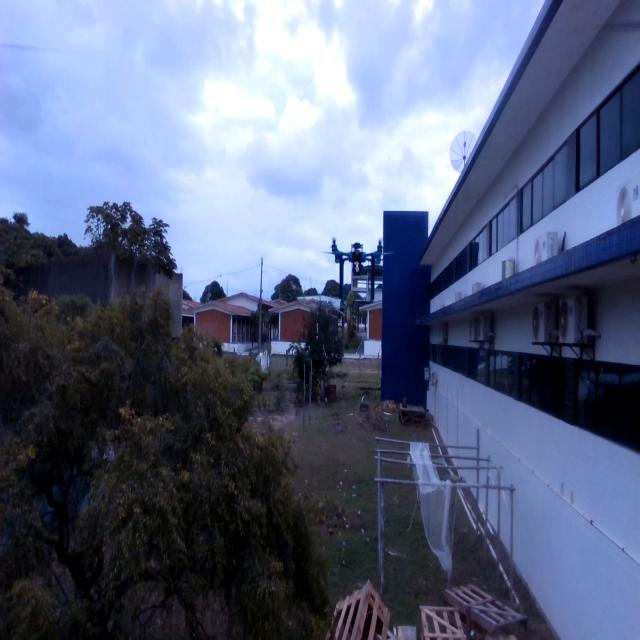-uav-: (323, 228, 392, 320)
